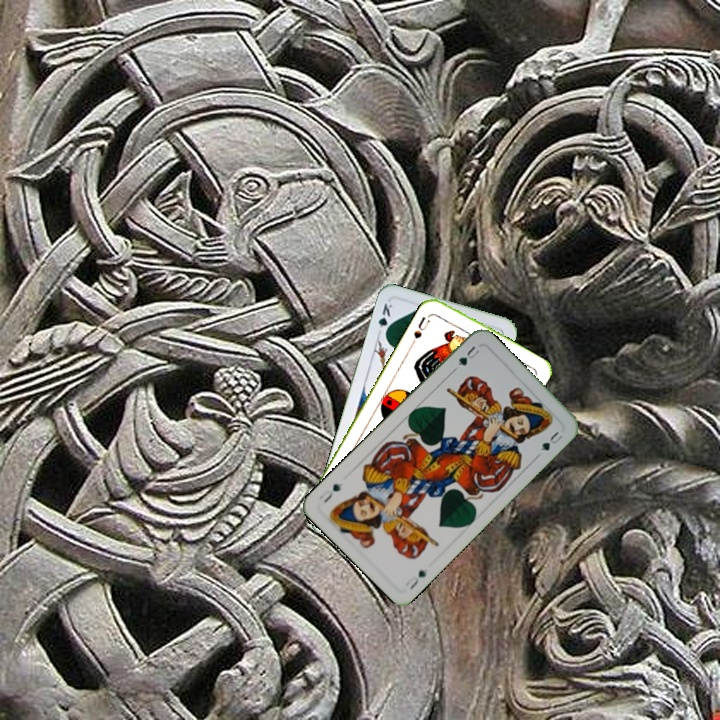GK: (374, 299, 395, 339)
GU: (454, 342, 482, 368), (402, 566, 429, 592)
SU: (409, 312, 433, 341)
